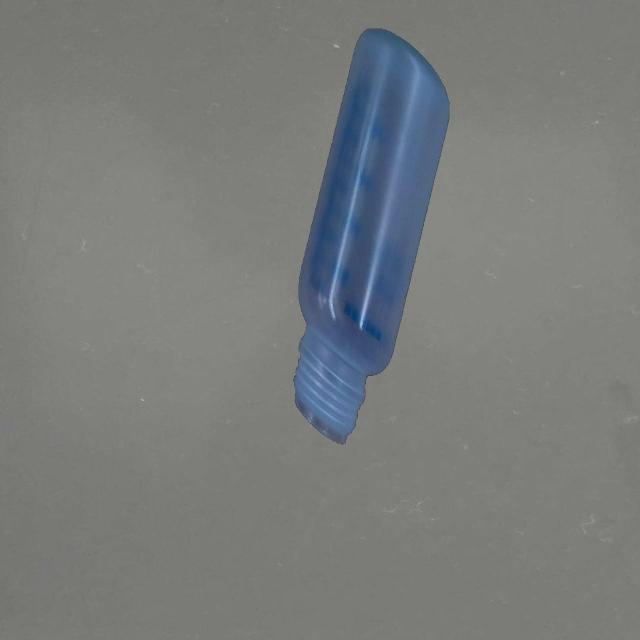bottle: (292, 22, 450, 444)
